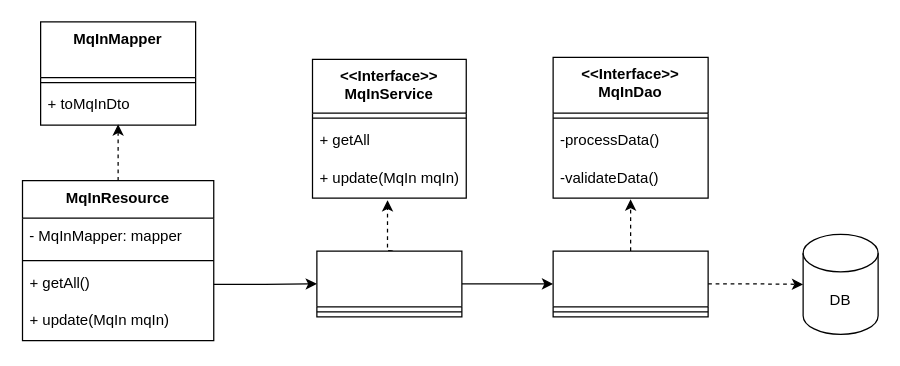
Image size: 900x366. Some labels were removed from this diagram. Each missing label, with the centre of its shape:
"MqInHibernateDao" goes at (x=630, y=283).
"MqInServiceImpl" goes at (x=389, y=283).
